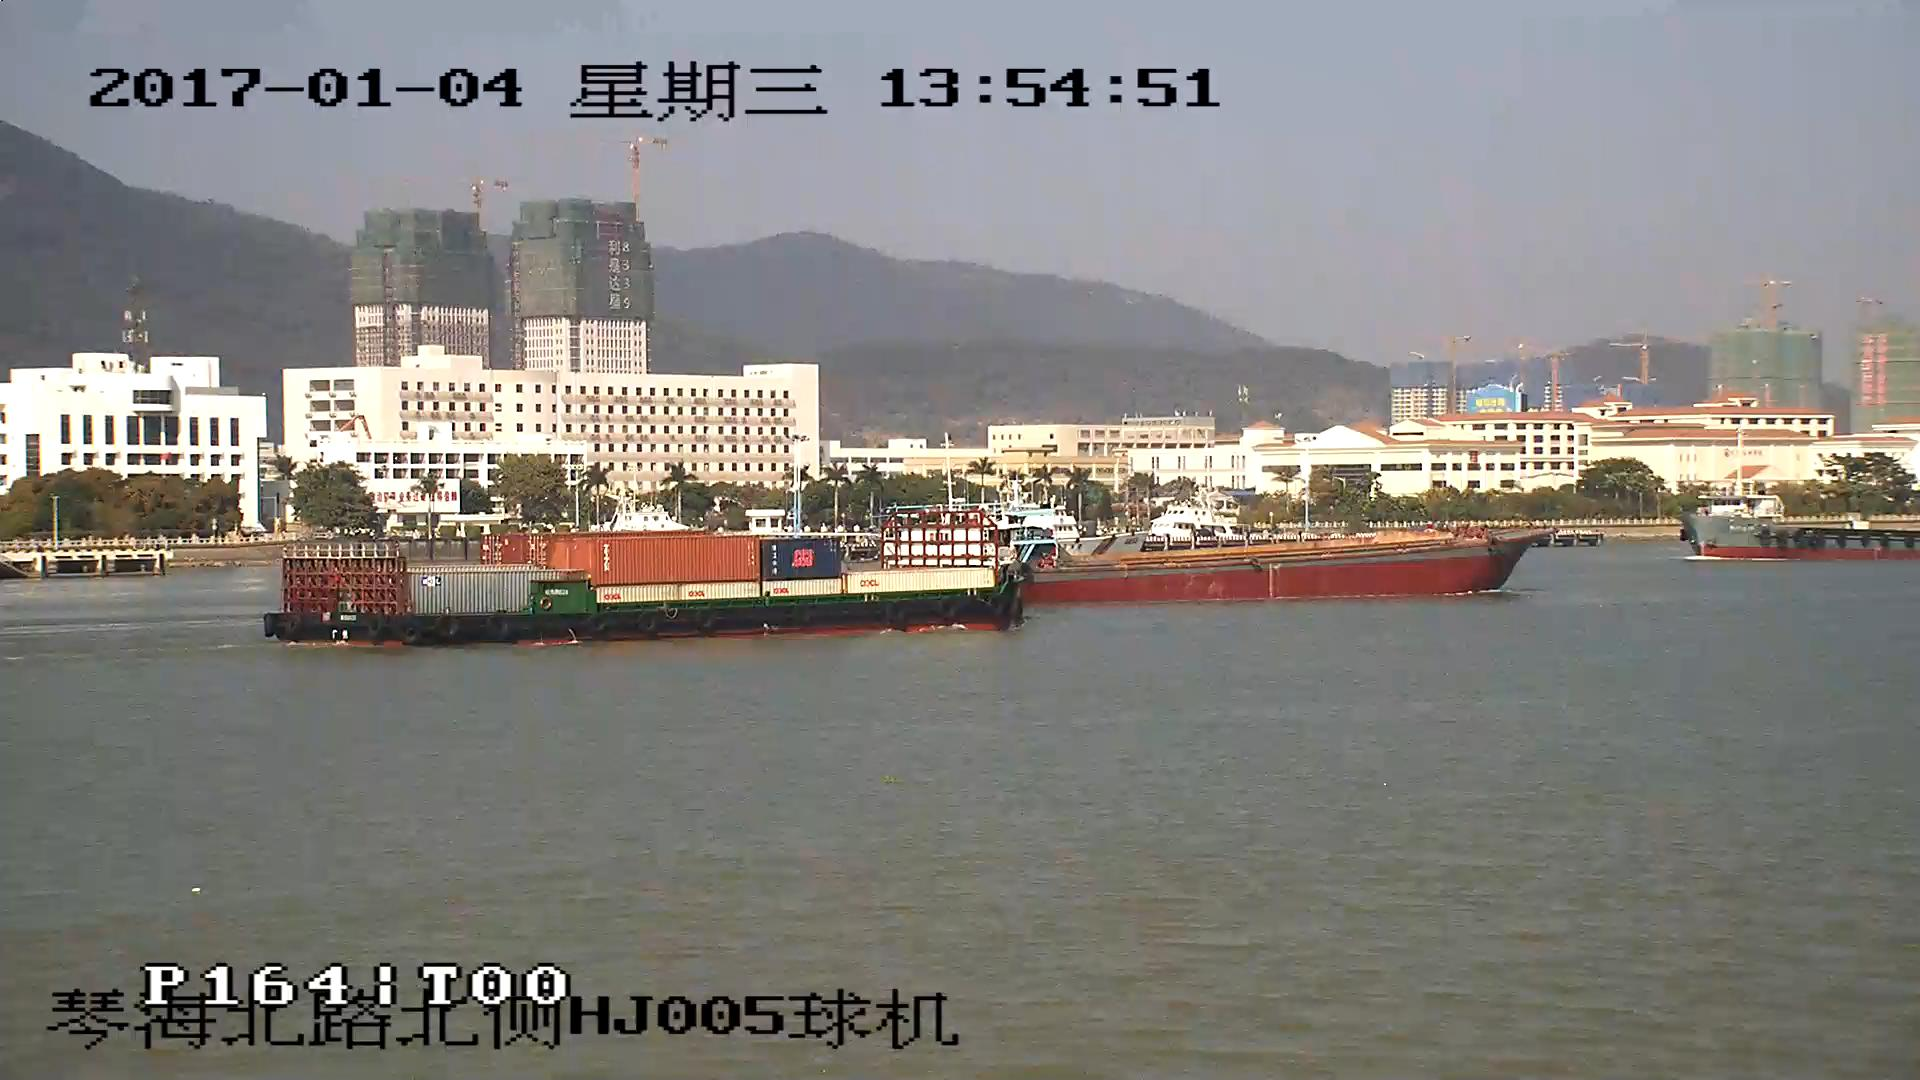bulk cargo carrier: (1038, 531, 1556, 601)
container ship: (265, 510, 1033, 647)
general cargo ship: (1684, 491, 1920, 562)
